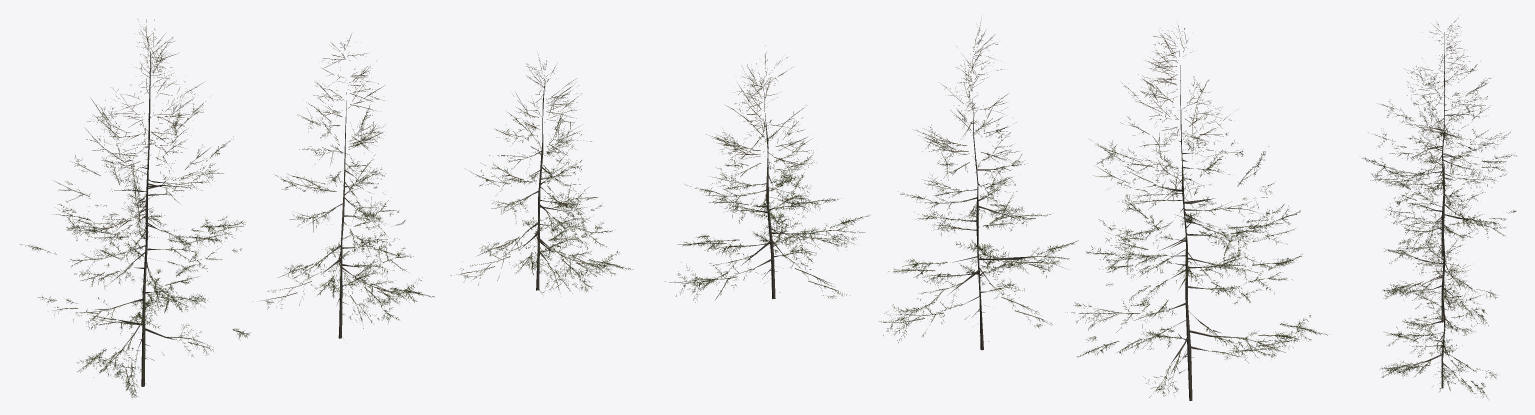
File: forest_hero_tree_d.glb
The picture shows the model from 3 angles, left to right: view 1: azimuth 30°, elevation 25°; view 2: azimuth 150°, elevation 25°; view 3: azimuth 270°, elevation 25°; orthographic projection. The views are drawn at different scales.
Parts seen in each view (by area): view 1: fir_sapling_medium_a_LOD0, fir_sapling_medium_c_LOD0, fir_sapling_medium_b_LOD0; view 2: fir_sapling_medium_a_LOD0, fir_sapling_medium_b_LOD0, fir_sapling_medium_c_LOD0; view 3: fir_sapling_medium_a_LOD0, fir_sapling_medium_b_LOD0, fir_sapling_medium_c_LOD0.
Boxes of the visible parts, bbox=[...] form: fir_sapling_medium_a_LOD0: bbox=[20, 19, 249, 397]; fir_sapling_medium_c_LOD0: bbox=[450, 54, 633, 294]; fir_sapling_medium_b_LOD0: bbox=[260, 34, 434, 338]; fir_sapling_medium_a_LOD0: bbox=[1065, 25, 1327, 400]; fir_sapling_medium_b_LOD0: bbox=[879, 18, 1078, 350]; fir_sapling_medium_c_LOD0: bbox=[665, 45, 869, 302]; fir_sapling_medium_a_LOD0: bbox=[1362, 18, 1516, 255]; fir_sapling_medium_b_LOD0: bbox=[1382, 116, 1497, 325]; fir_sapling_medium_c_LOD0: bbox=[1379, 228, 1497, 398].
Size of the model in its own units: 14.68 by 8.83 by 5.18.
3 materials, 3 textured.
